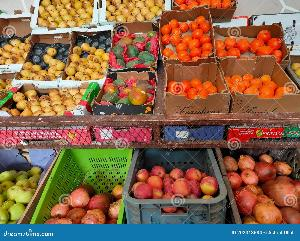apple: (133, 148, 221, 208), (0, 152, 44, 226)
mango: (110, 25, 160, 75), (102, 72, 156, 108)
pear: (2, 87, 92, 117), (64, 31, 112, 82), (23, 33, 69, 83), (99, 0, 167, 26), (36, 0, 94, 28), (1, 38, 30, 64)
pomegranate: (38, 152, 126, 222), (222, 152, 300, 226)
tomato: (214, 13, 294, 59), (161, 10, 217, 64), (227, 62, 289, 106), (164, 65, 226, 105)
